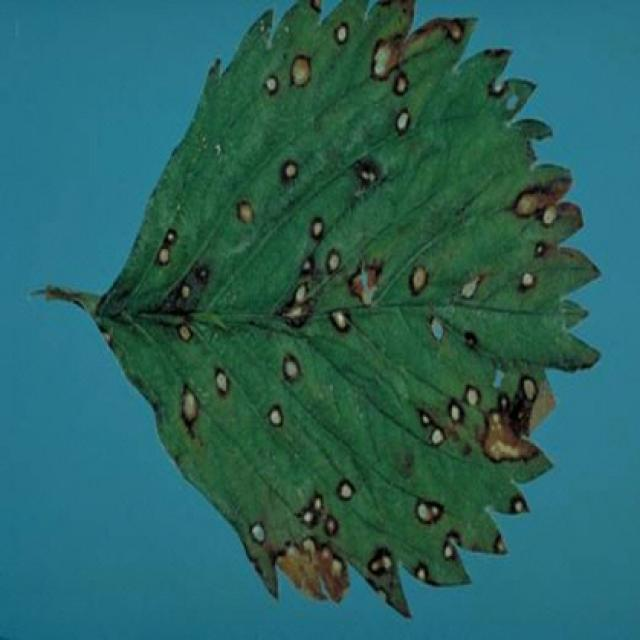Leaf Spot: (87, 0, 604, 620)
